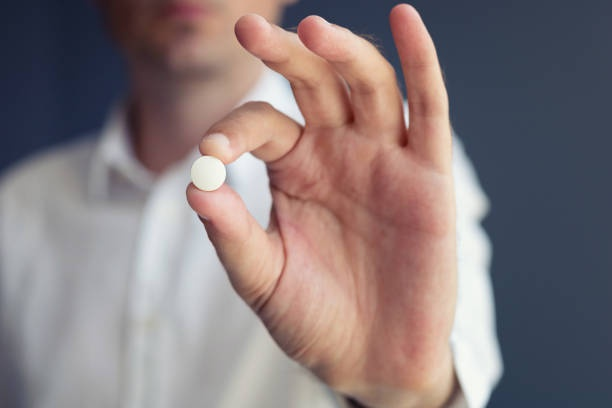pills: (185, 152, 233, 192)
